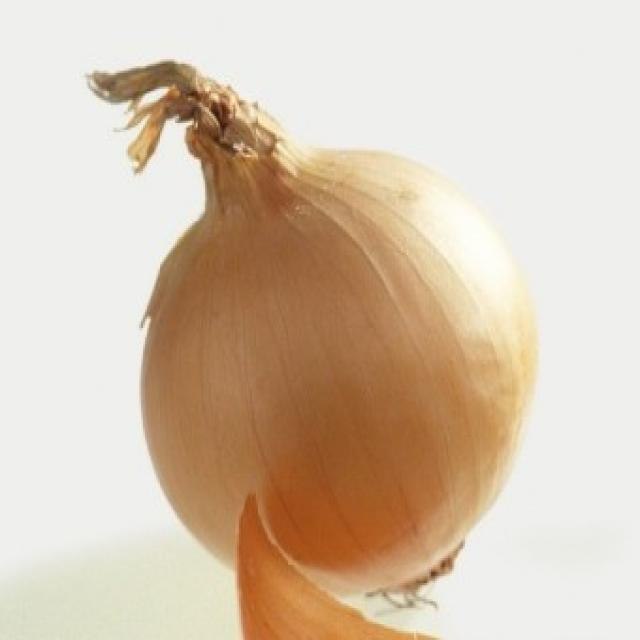onion: (85, 61, 541, 640)
